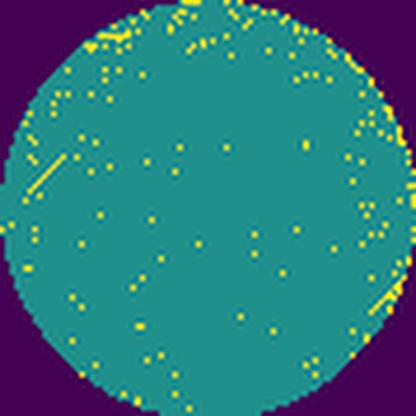Scratch: (25, 150, 70, 198), (366, 274, 408, 318)
